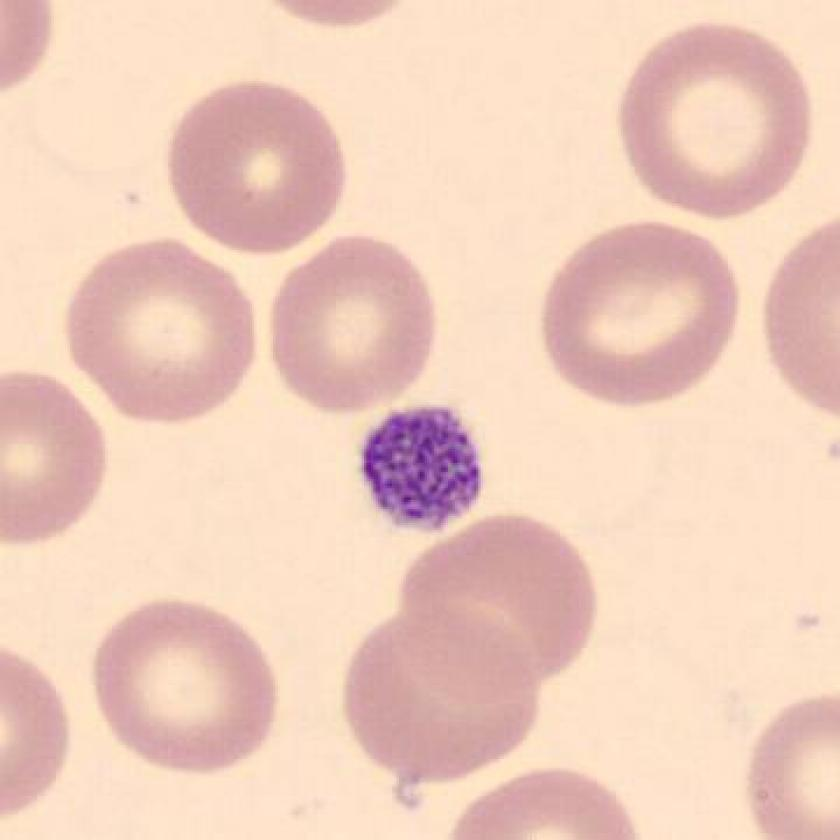platelets: (349, 392, 496, 545)
